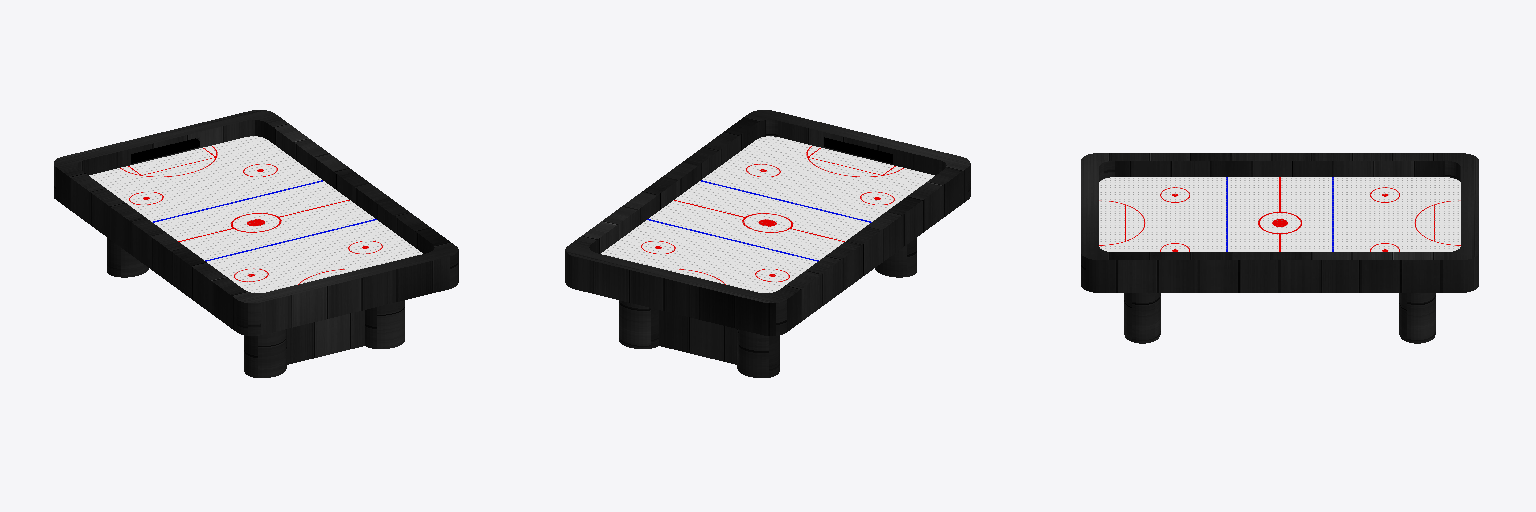
3 views of the same model, side by side, from view 1: azimuth 30°, elevation 25°; view 2: azimuth 150°, elevation 25°; view 3: azimuth 270°, elevation 25° (orthographic).
Parts seen in each view (by area): view 1: Cylinder.002_Cylinder.013; view 2: Cylinder.002_Cylinder.013; view 3: Cylinder.002_Cylinder.013.
Boxes of the visible parts, <box> form: Cylinder.002_Cylinder.013: <box>54,110,458,377</box>; Cylinder.002_Cylinder.013: <box>565,110,970,377</box>; Cylinder.002_Cylinder.013: <box>1081,153,1478,343</box>.
Bounding box in the file's own units: 3.5 × 1.51 × 5.5.
Materials: 6 (3 with a texture image).